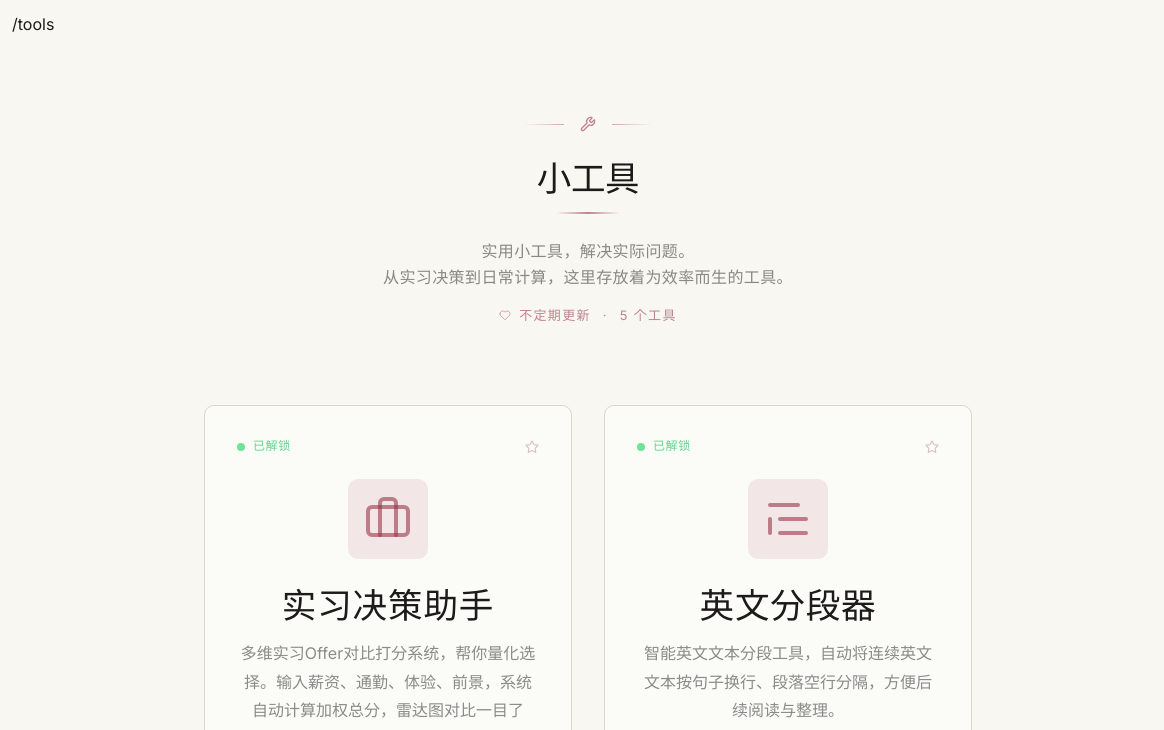
Test case: opens tools at the current static site routes
Click the heading "实习决策助手" at (388,602), box [282,578,494,627]
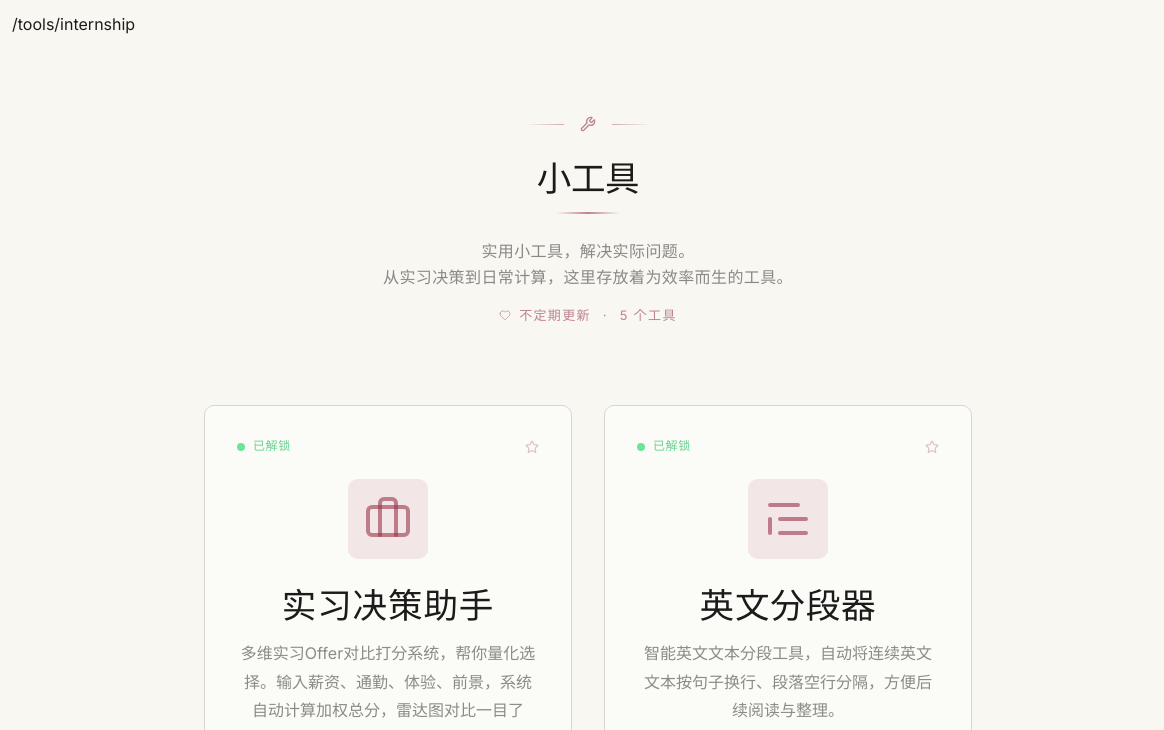
Check: the text with test id "location" reads "/tools/internship", box [12,14,135,34]
